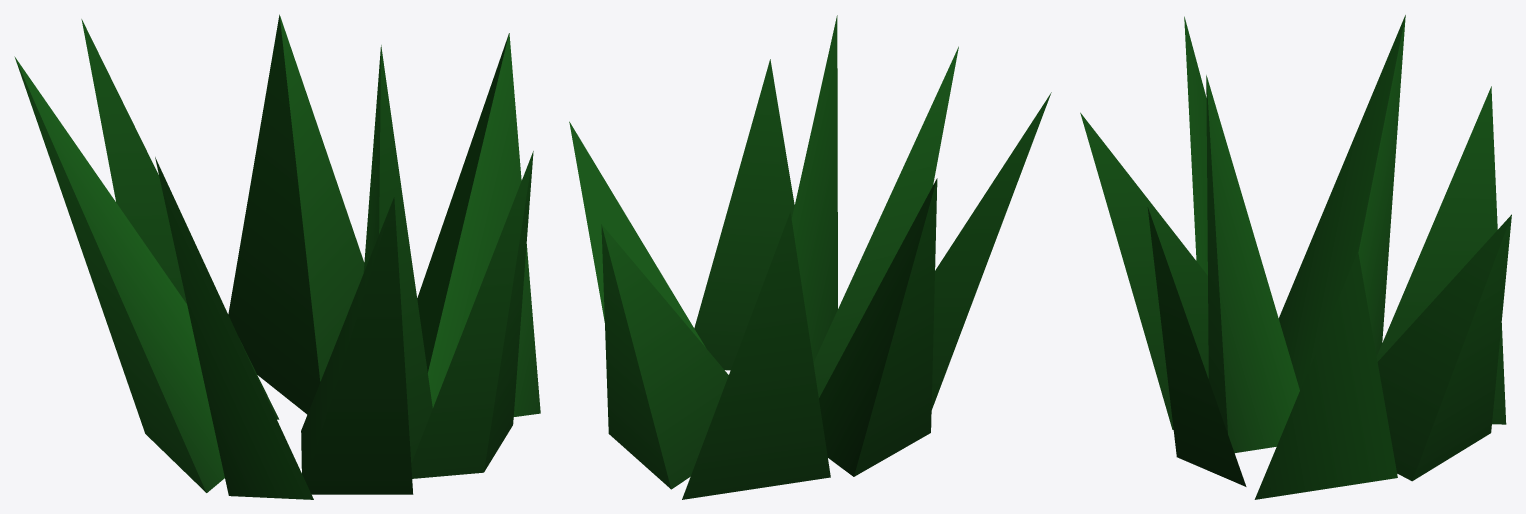
The model's file is c_grass_ac.fbx.
3 renders of one model, left to right at view 1: azimuth 30°, elevation 25°; view 2: azimuth 150°, elevation 25°; view 3: azimuth 270°, elevation 25°, orthographic. The views are drawn at different scales.
Parts seen in each view (by area): view 1: c_grass_ac; view 2: c_grass_ac; view 3: c_grass_ac.
Boxes of the visible parts, <box> form: c_grass_ac: <box>14,14,540,499</box>; c_grass_ac: <box>569,15,1051,499</box>; c_grass_ac: <box>1080,15,1511,499</box>.
Bounding box in the file's own units: 0.3785 × 0.3403 × 0.3789.
